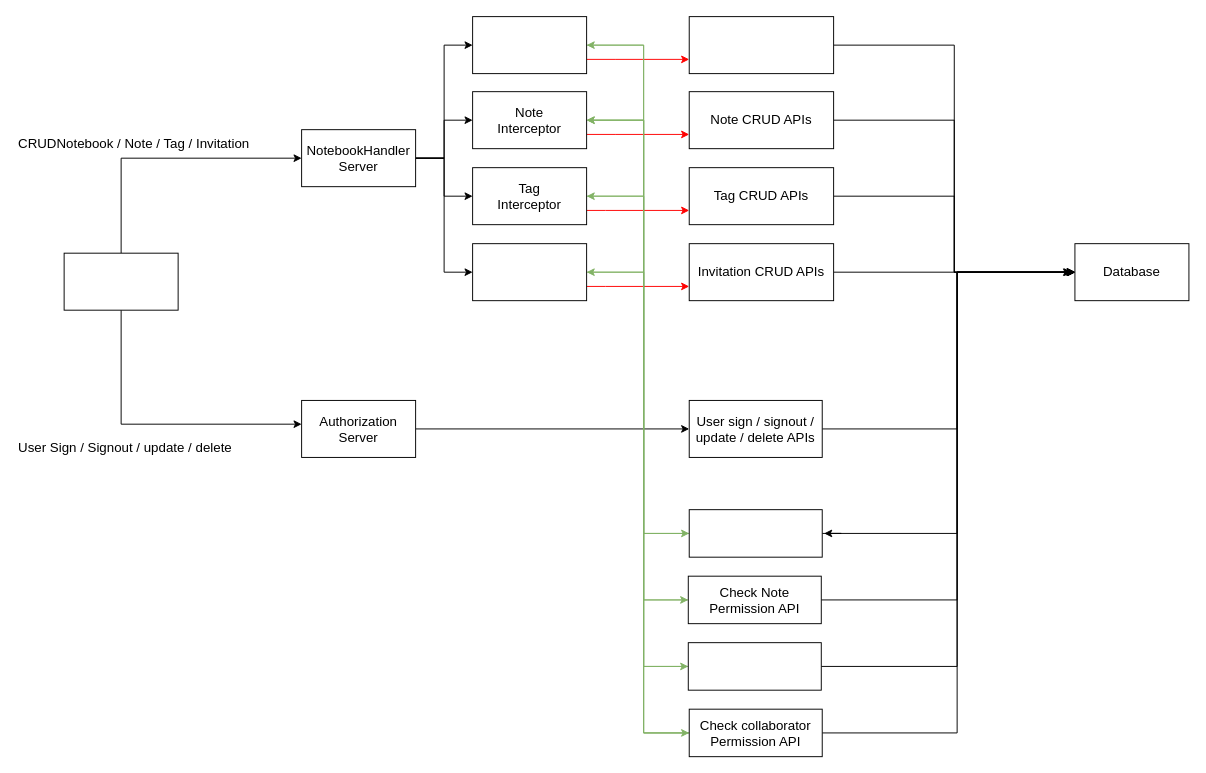
The diagram is 1206 pixels wide and 773 high, and some of its shapes have lost their labels. Each missing label, with the centre of its shape:
Check Notebook Permission API: pixel 755 533
Check Tag Permission API: pixel 754 666
collaborator Interceptor: pixel 529 272
Notebook CRUD APIs: pixel 761 45
Notebook Interceptor: pixel 529 45
User: pixel 120 281
